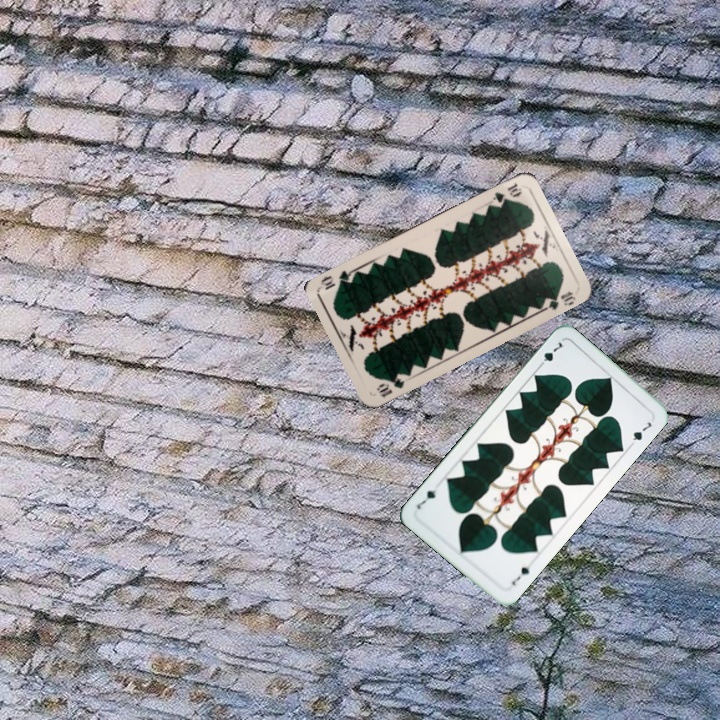G10: (486, 178, 525, 206), (372, 372, 407, 400)
G7: (534, 337, 567, 371), (508, 562, 532, 588)
